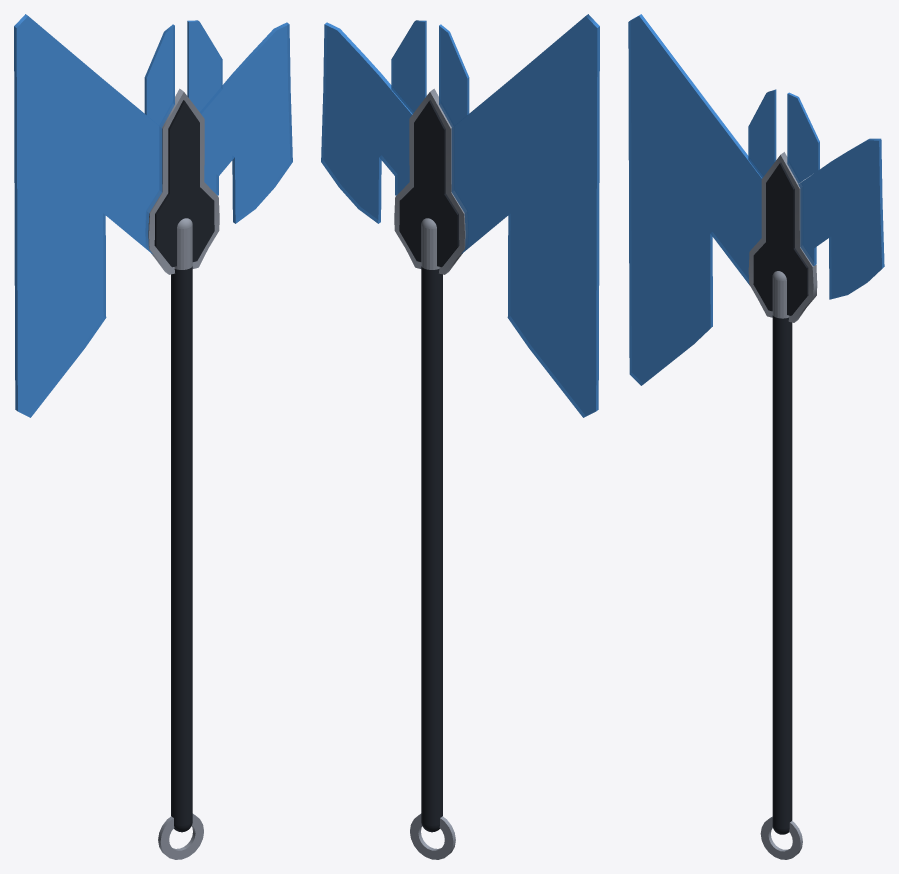
Rendered from weapon_axe.fbx.
The picture shows the model from 3 angles, left to right: view 1: azimuth 30°, elevation 25°; view 2: azimuth 150°, elevation 25°; view 3: azimuth 330°, elevation 25°; orthographic projection. The views are drawn at different scales.
Visible parts, largest first — view 1: pCube6; view 2: pCube6; view 3: pCube6.
Boxes of the visible parts, bbox=[...] form: pCube6: bbox=[14, 14, 292, 859]; pCube6: bbox=[321, 14, 599, 859]; pCube6: bbox=[628, 14, 884, 859].
Size of the model in its own units: 1.51 by 4.61 by 0.104.
